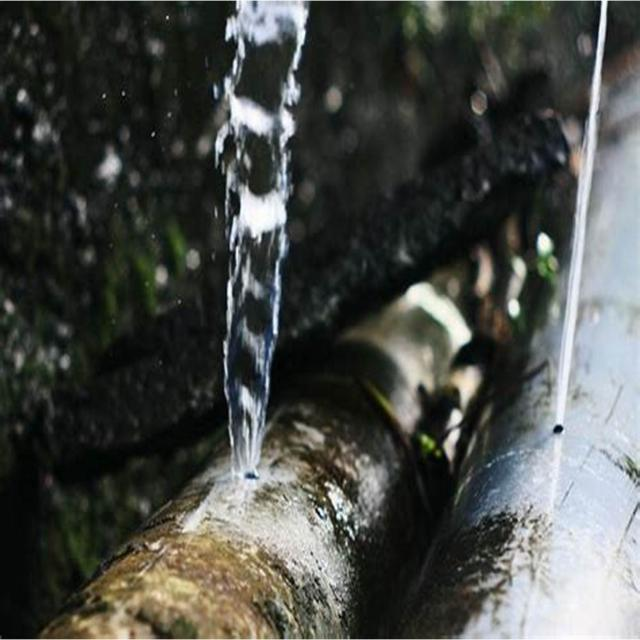leak: (215, 0, 308, 478)
